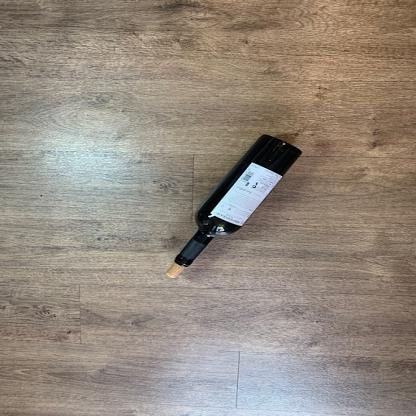trash: (173, 133, 301, 268)
